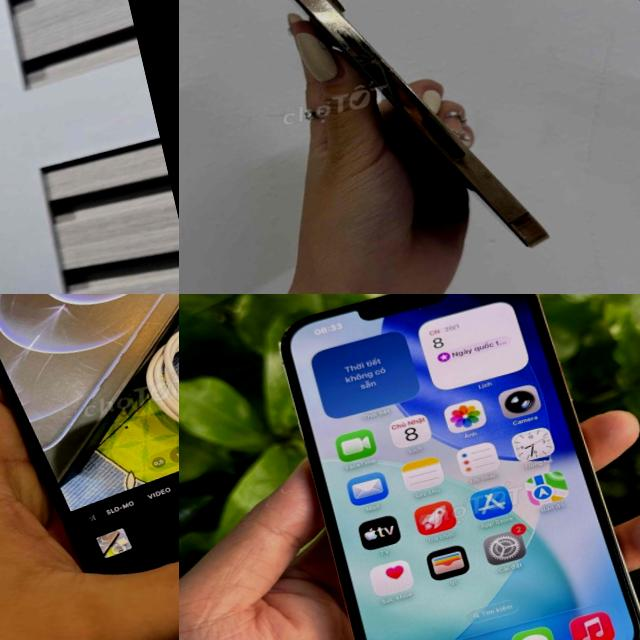scratch: (334, 21, 419, 105), (282, 0, 353, 47)
